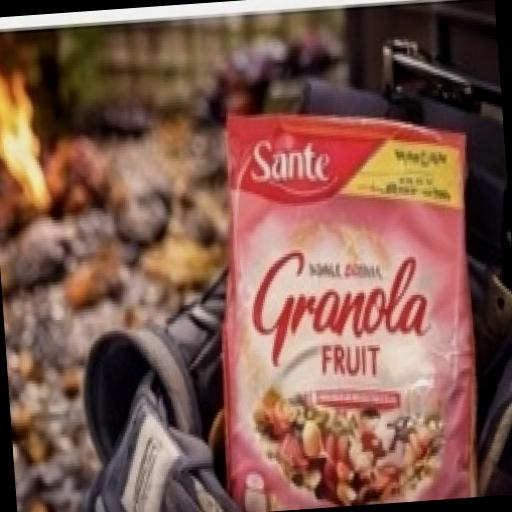granola: (190, 73, 497, 512)
